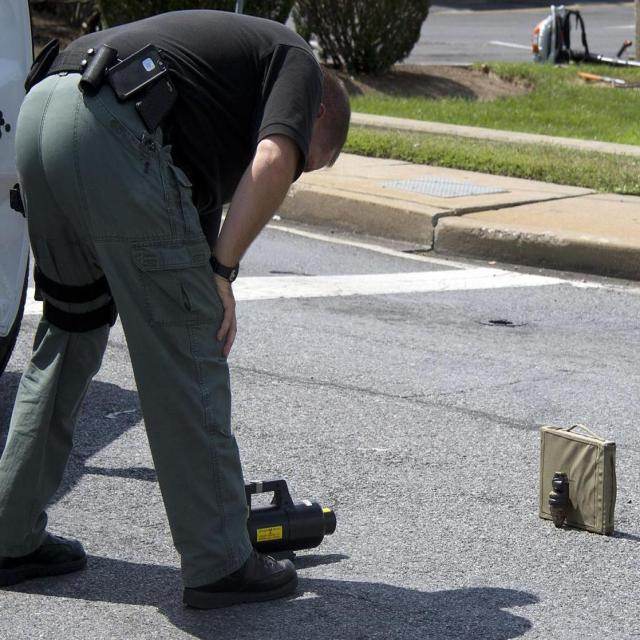grenade: (549, 470, 573, 531)
